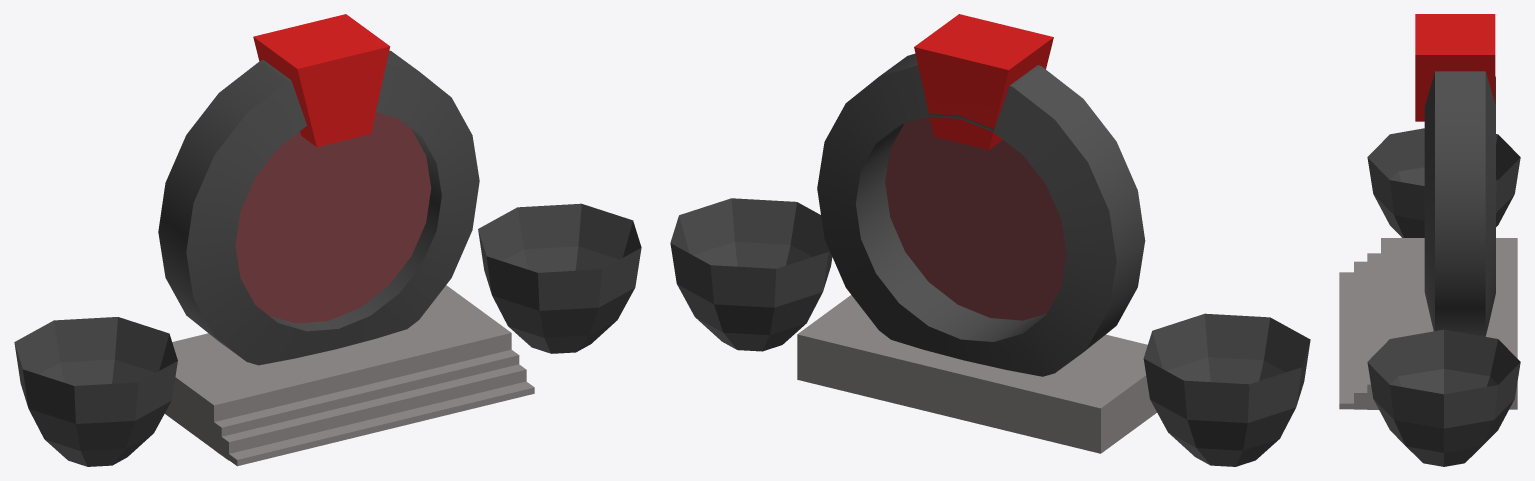
The model's file is portal.fbx.
3 views of the same model, side by side, from view 1: azimuth 30°, elevation 25°; view 2: azimuth 150°, elevation 25°; view 3: azimuth 270°, elevation 25° (orthographic). The views are drawn at different scales.
Visible parts, largest first — view 1: pCube5, pPlane3; view 2: pCube5, pPlane3; view 3: pCube5.
Part boxes in pixels (x1=…): pCube5: x1=14, y1=14, x2=641, y2=466; pPlane3: x1=235, y1=112, x2=431, y2=323; pCube5: x1=670, y1=14, x2=1310, y2=466; pPlane3: x1=885, y1=116, x2=1066, y2=320; pCube5: x1=1339, y1=14, x2=1520, y2=466.
Bounding box in the file's own units: 8.32 × 4.57 × 2.37.
Materials: 2 (1 with a texture image).
